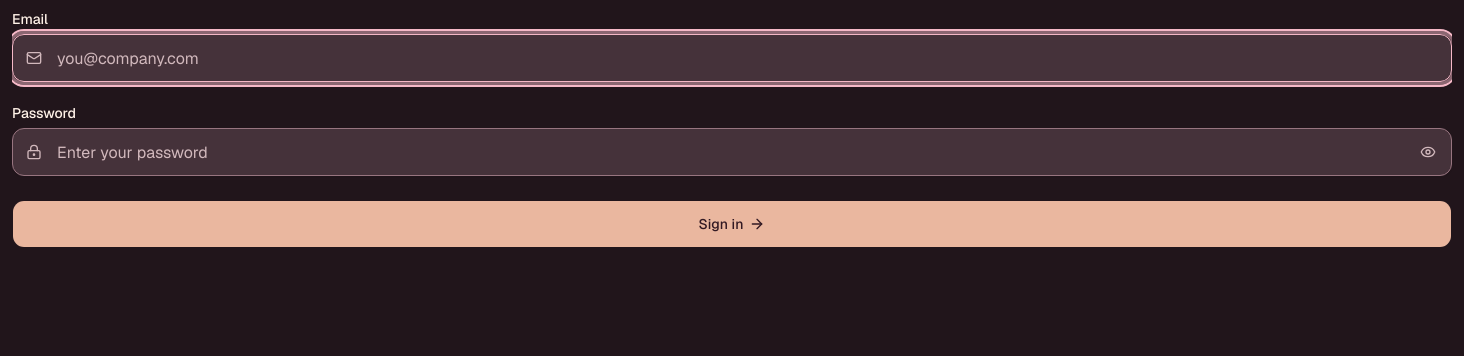
Scenario: LoginForm › surfaces the account_locked state
Type "manager@example.com" into the field labelled "Email" at (732, 58), box [12, 34, 1452, 82]
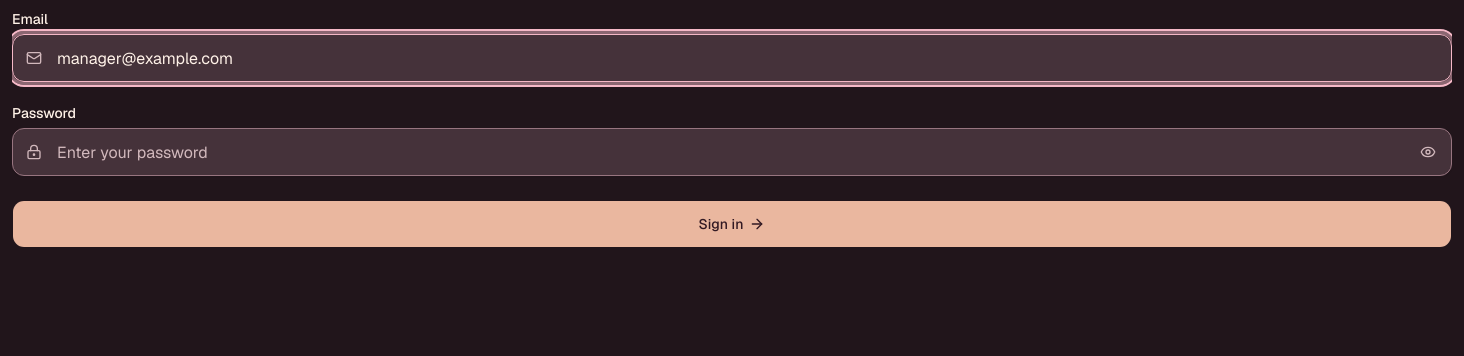
Type "secret123" into the password field labelled "Password" at (732, 152), box [12, 128, 1452, 176]
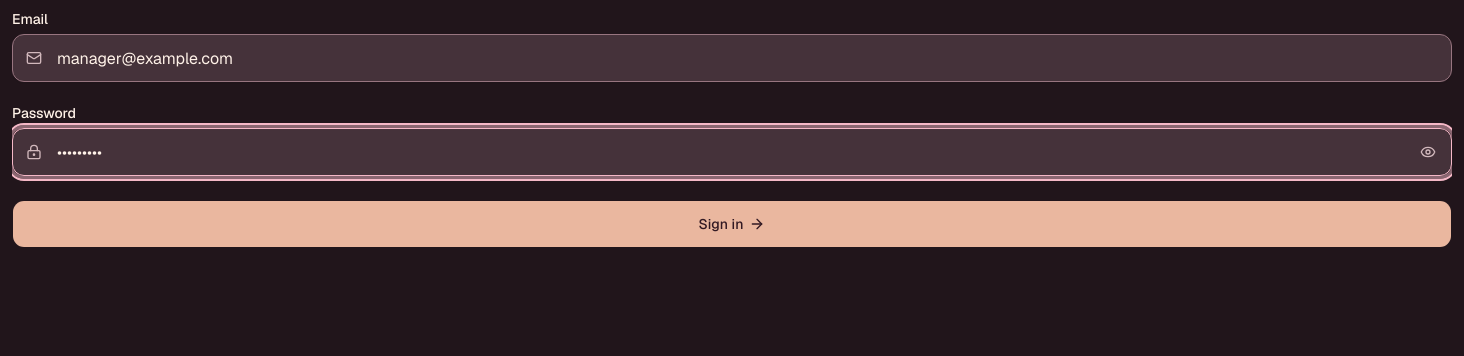
Click the button "Sign in" at (732, 224), box [12, 200, 1452, 248]
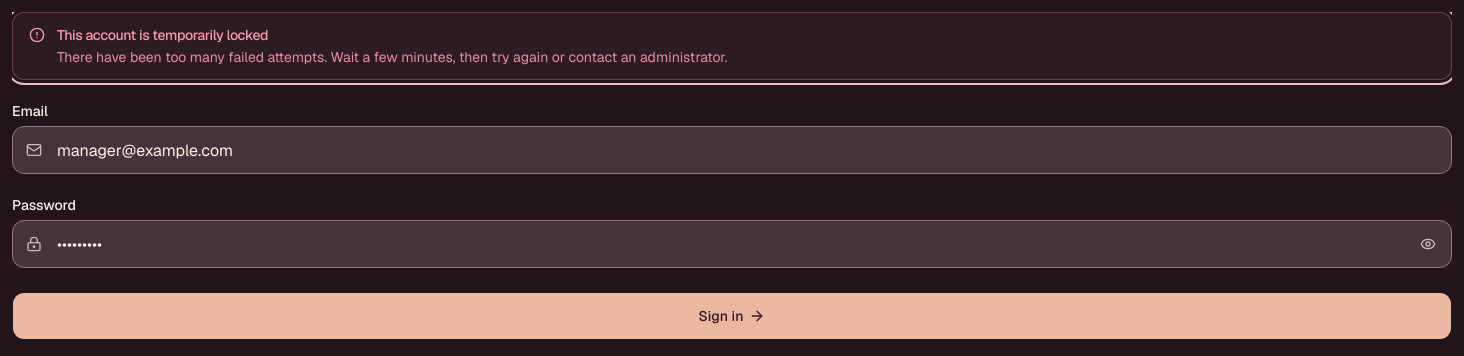
Expected: the text "This account is temporarily locked" is shown, [57, 26, 268, 44]
